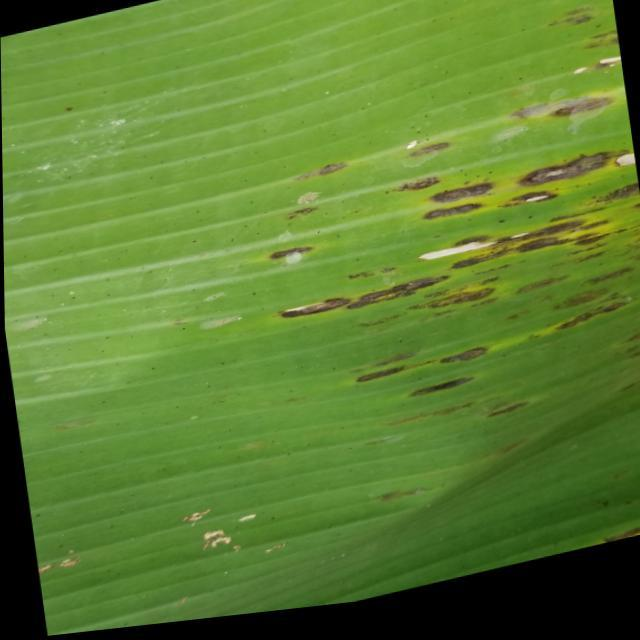Early_rust: (171, 39, 639, 441)
